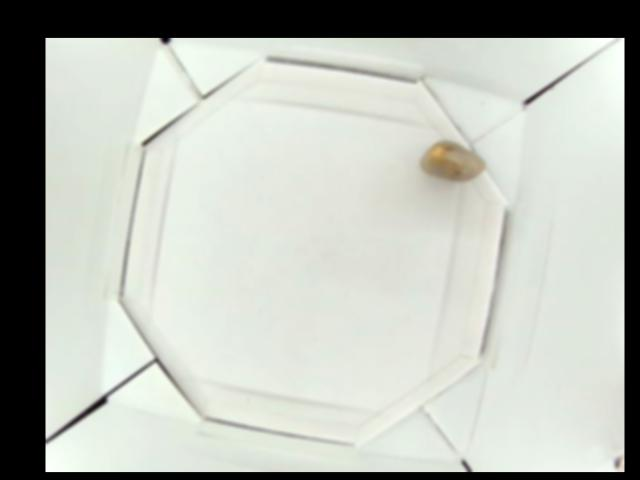Pebble: (417, 139, 487, 182)
